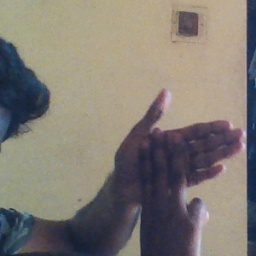M: (112, 86, 245, 241)
